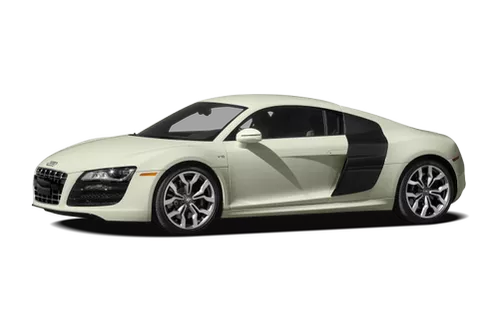audi: (25, 89, 469, 236)
